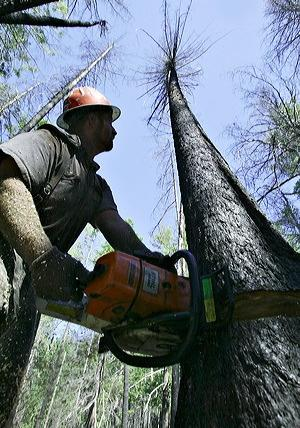person: (1, 86, 176, 428)
